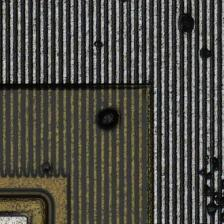PO CONTAMINATION: (39, 13, 224, 224)
